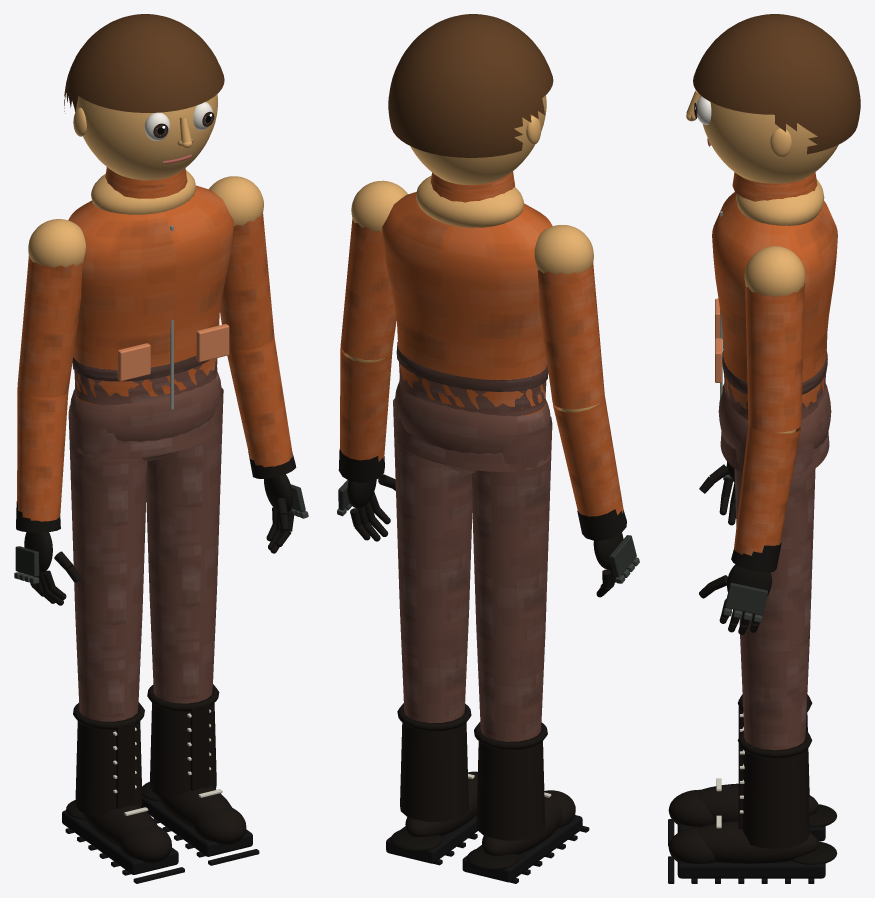
File: 06-jogging.glb
3 views of the same model, side by side, from view 1: azimuth 30°, elevation 25°; view 2: azimuth 150°, elevation 25°; view 3: azimuth 270°, elevation 25° (orthographic). The views are drawn at different scales.
Bounding box in the file's own units: 0.6344 × 1.77 × 0.3715.
25 materials, 4 textured.
